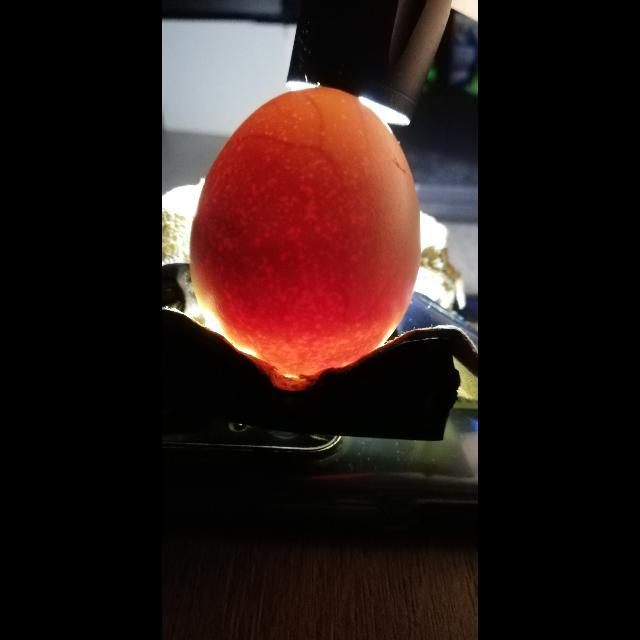Fertile: (187, 80, 427, 380)
